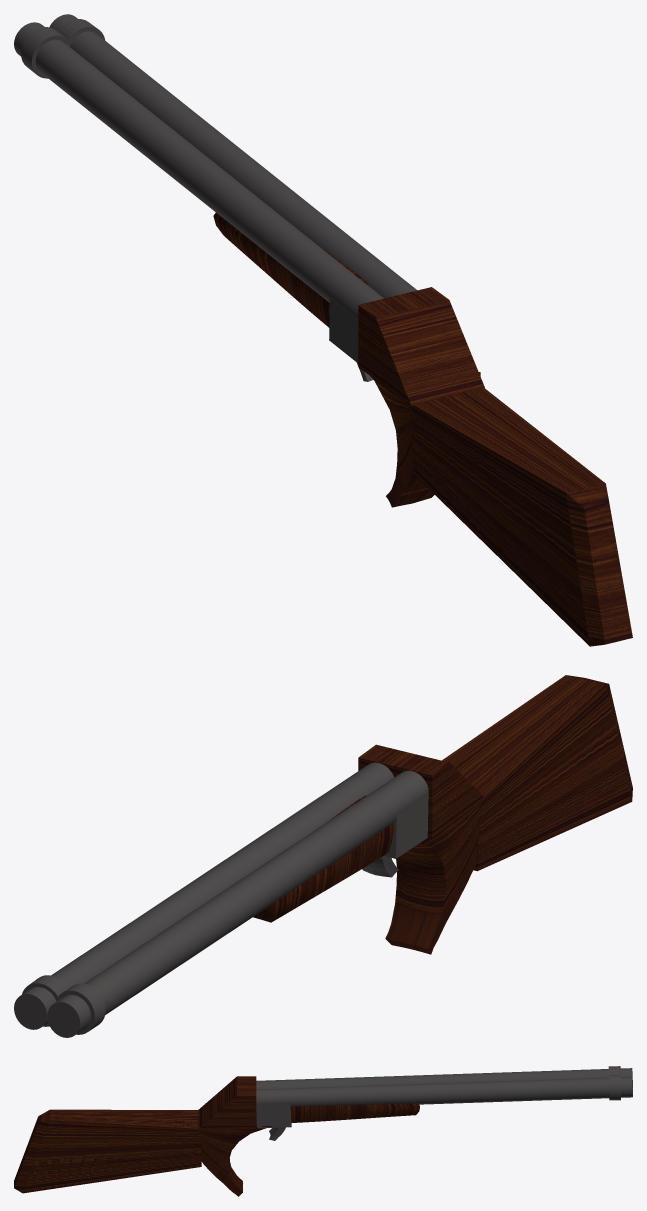
File: gun.fbx
The picture shows the model from 3 angles, top to bottom: view 1: azimuth 30°, elevation 25°; view 2: azimuth 150°, elevation 25°; view 3: azimuth 270°, elevation 25°; orthographic projection. The views are drawn at different scales.
Parts seen in each view (by area): view 1: Cube.003, Cylinder.002, Cube.002, Cube.005, Cube, Cube.001, Cylinder; view 2: Cylinder.002, Cube.003, Cube.005, Cube.002, Cube, Cube.001, Cylinder, Cylinder.003; view 3: Cube.003, Cylinder.002, Cube.002, Cube.005, Cube, Cube.001, Cylinder.003.
Boxes of the visible parts, left/top/right/bottom form: Cube.003: left=410, top=387, right=632, bottom=646; Cylinder.002: left=14, top=14, right=417, bottom=320; Cube.002: left=358, top=287, right=484, bottom=405; Cube.005: left=370, top=372, right=480, bottom=507; Cube: left=213, top=212, right=367, bottom=327; Cube.001: left=329, top=298, right=358, bottom=363; Cylinder: left=21, top=27, right=70, bottom=78; Cylinder.002: left=14, top=762, right=428, bottom=1037; Cube.003: left=442, top=675, right=632, bottom=871; Cube.005: left=385, top=790, right=481, bottom=954; Cube.002: left=358, top=744, right=485, bottom=837; Cube: left=253, top=795, right=393, bottom=922; Cube.001: left=383, top=794, right=428, bottom=858; Cylinder: left=58, top=983, right=105, bottom=1034; Cylinder.003: left=22, top=975, right=68, bottom=1026; Cube.003: left=14, top=1109, right=201, bottom=1193; Cylinder.002: left=256, top=1068, right=632, bottom=1106; Cube.002: left=198, top=1076, right=256, bottom=1129; Cube.005: left=201, top=1103, right=271, bottom=1196; Cube: left=290, top=1103, right=419, bottom=1122; Cube.001: left=256, top=1102, right=291, bottom=1128; Cylinder.003: left=609, top=1075, right=620, bottom=1100.
Bounding box in the file's own units: 138 × 385 × 1803.
